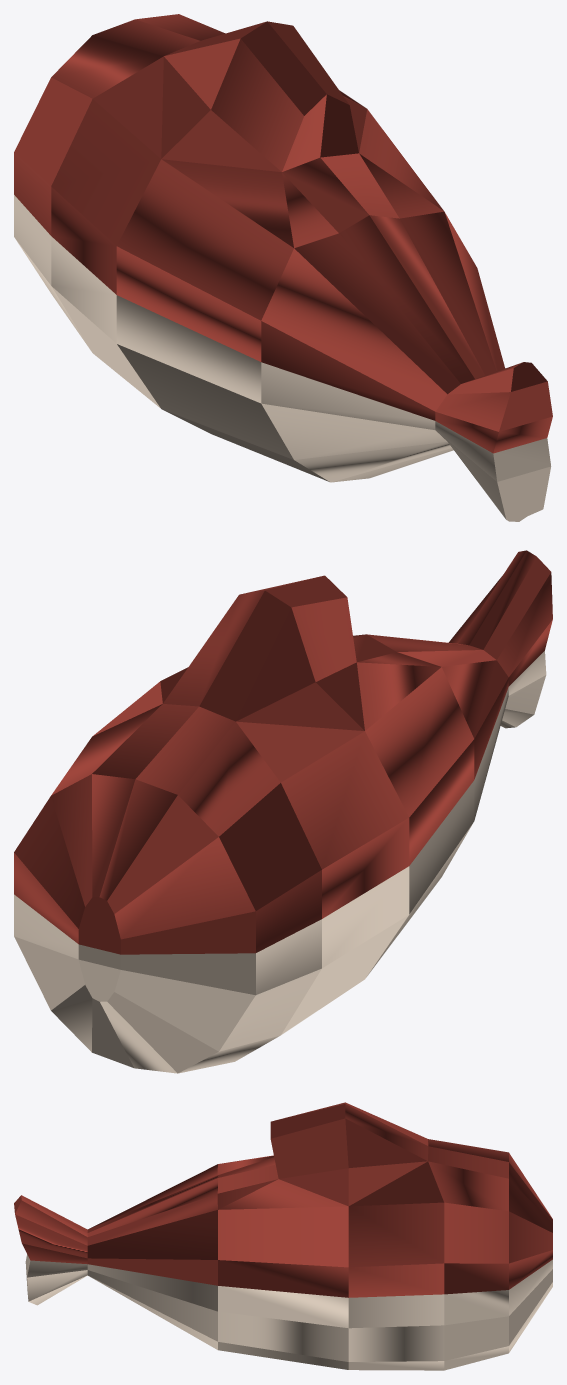
File: fish02_2.fbx
The picture shows the model from 3 angles, top to bottom: view 1: azimuth 30°, elevation 25°; view 2: azimuth 150°, elevation 25°; view 3: azimuth 270°, elevation 25°; orthographic projection. The views are drawn at different scales.
Parts seen in each view (by area): view 1: Cube; view 2: Cube; view 3: Cube.
Boxes of the visible parts, x1,y1,x2,y2 form: Cube: [14, 14, 552, 521]; Cube: [14, 550, 552, 1073]; Cube: [14, 1102, 552, 1370].
Bounding box in the file's own units: 37.47 × 49.81 × 95.07.
